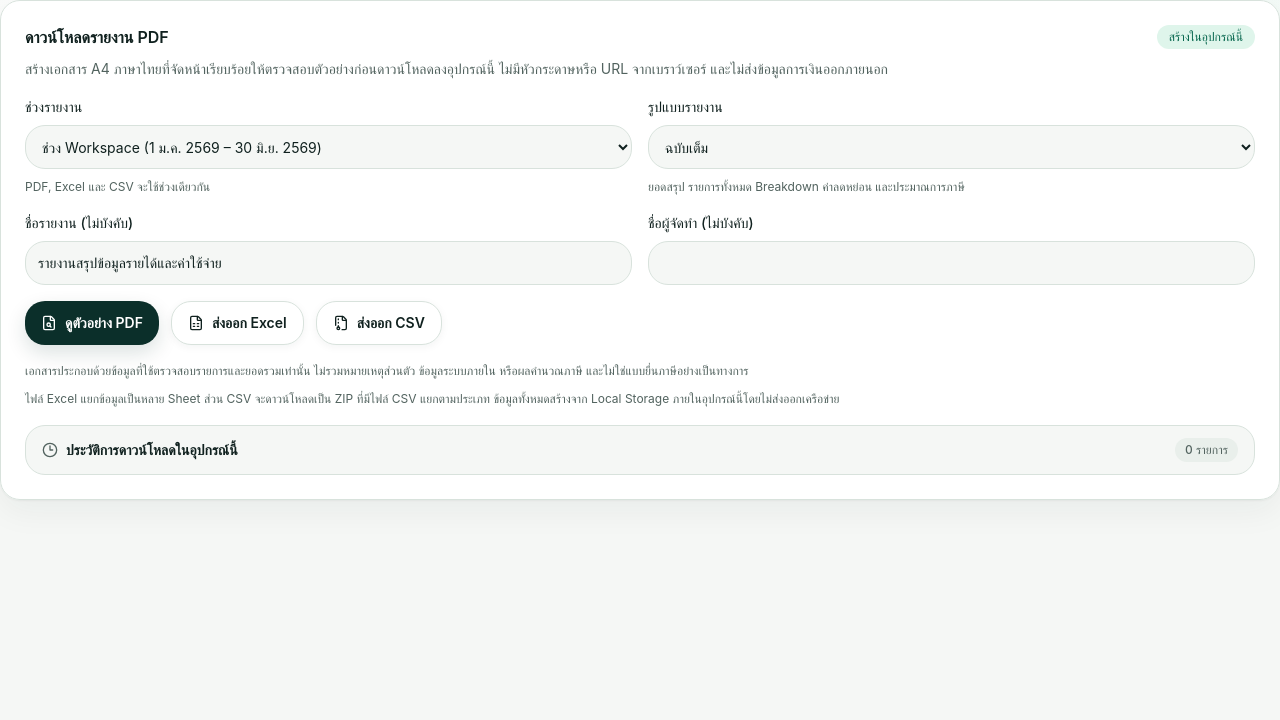
Test: PdfExportPanel › previews the local report before downloading without network, storage, or URL changes
Expected: the heading "ดาวน์โหลดรายงาน PDF" is shown, top-left (25, 27), bottom-right (169, 47)
Expected: the text "ไม่รวมหมายเหตุส่วนตัว ข้อมูลระบบภายใน หรือผลคำนวณภาษี" is shown, top-left (25, 363), bottom-right (749, 378)
Replace the text in the field labelled "ชื่อรายงาน (ไม่บังคับ)" with "รายงานสำหรับประชุม" at [328, 263], box top-left (25, 241), bottom-right (632, 285)
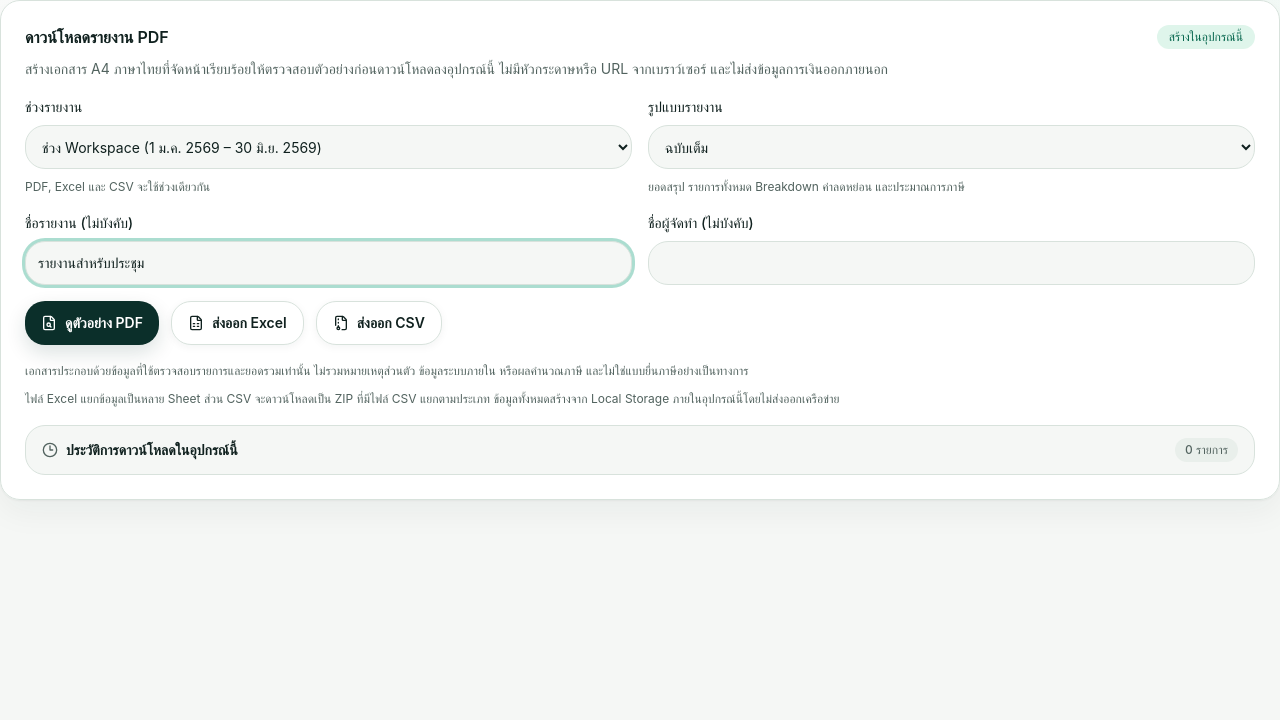
Type "ผู้ใช้ตัวอย่าง" into the field labelled "ชื่อผู้จัดทำ (ไม่บังคับ)" at [952, 263], box top-left (648, 241), bottom-right (1255, 285)
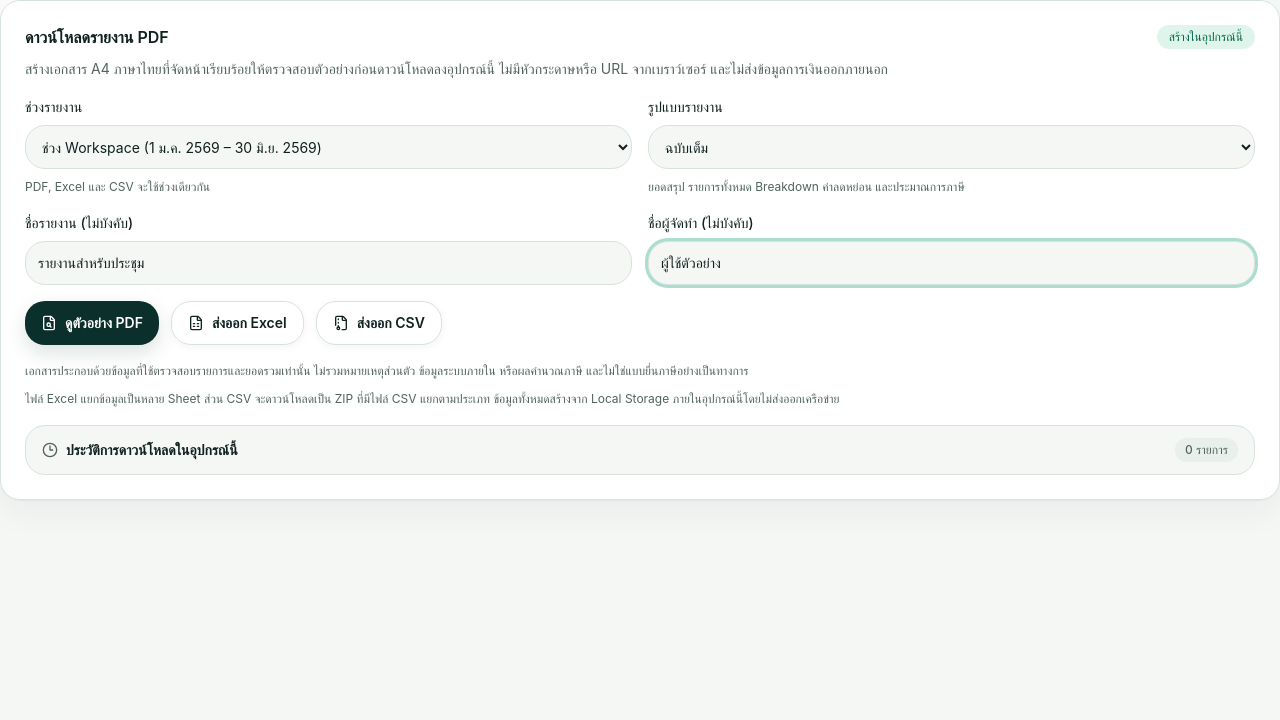
Click the button "ดูตัวอย่าง PDF" at [92, 323], box top-left (25, 301), bottom-right (159, 345)
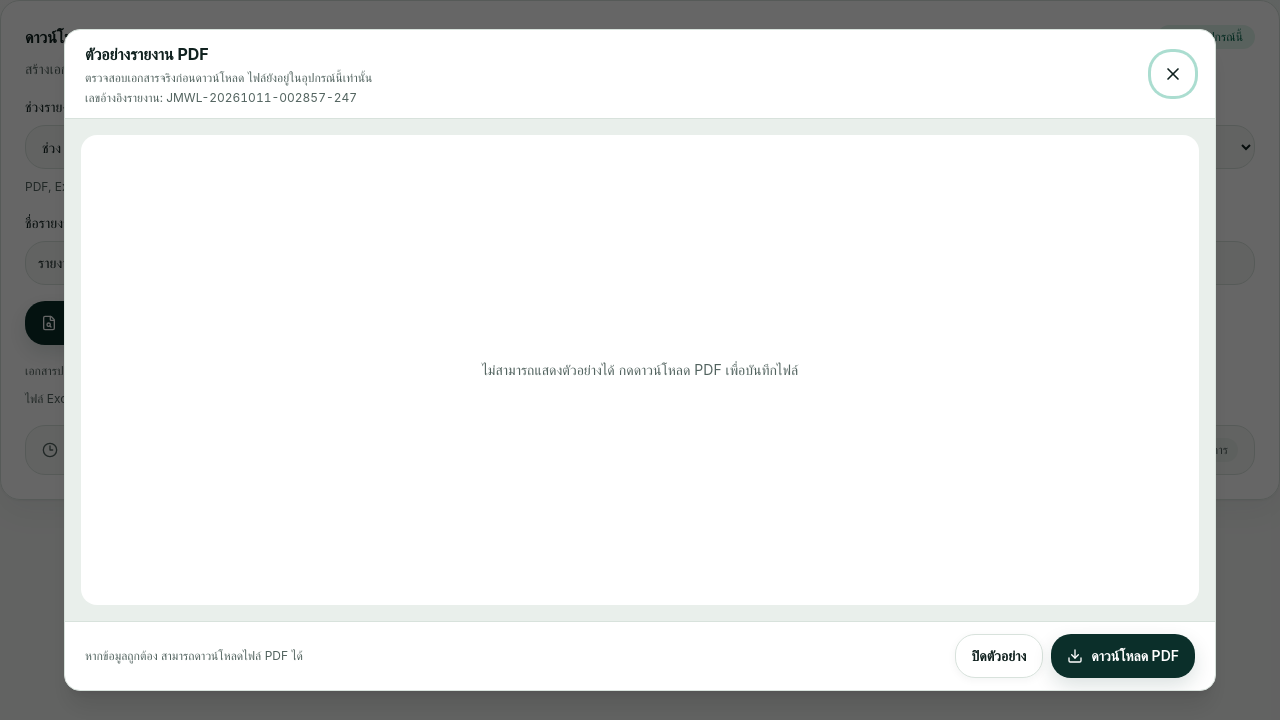
Result: the dialog "ตัวอย่างรายงาน PDF" is shown
Click the button "ดาวน์โหลด PDF" at [1123, 656], box top-left (1051, 634), bottom-right (1195, 678)
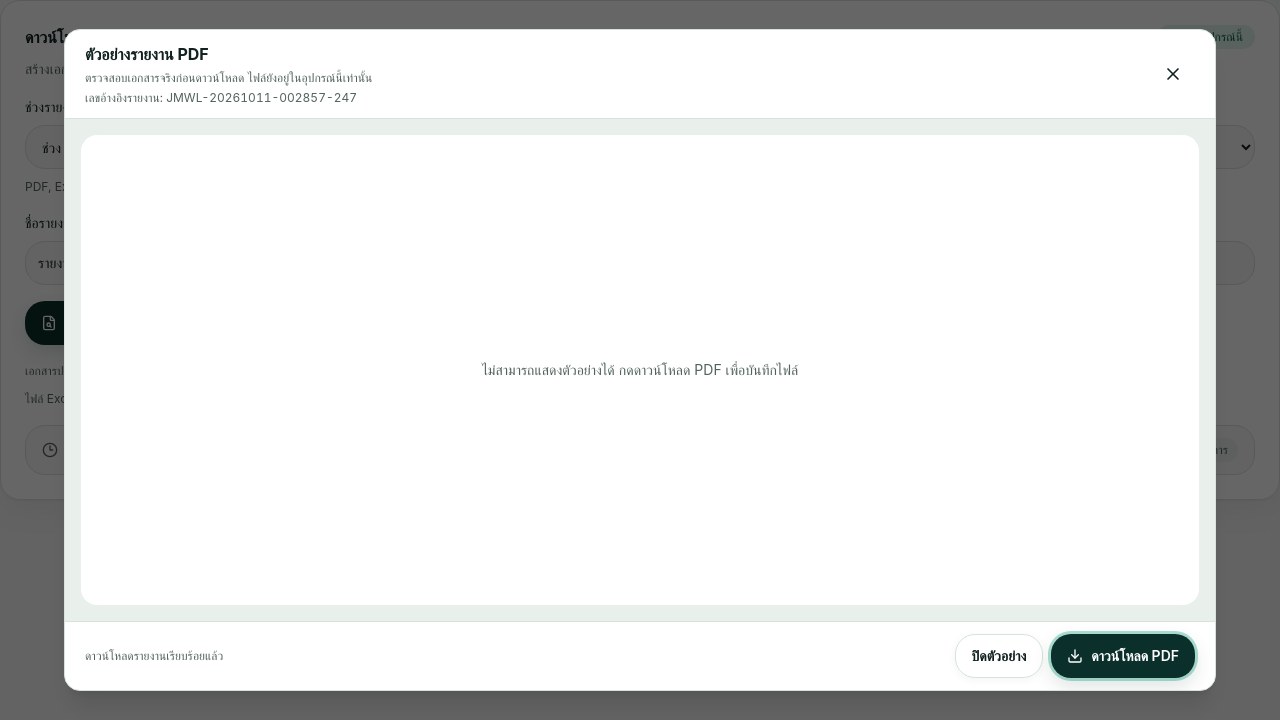
Click the button "ปิดตัวอย่าง" at [999, 656], box top-left (954, 634), bottom-right (1043, 678)
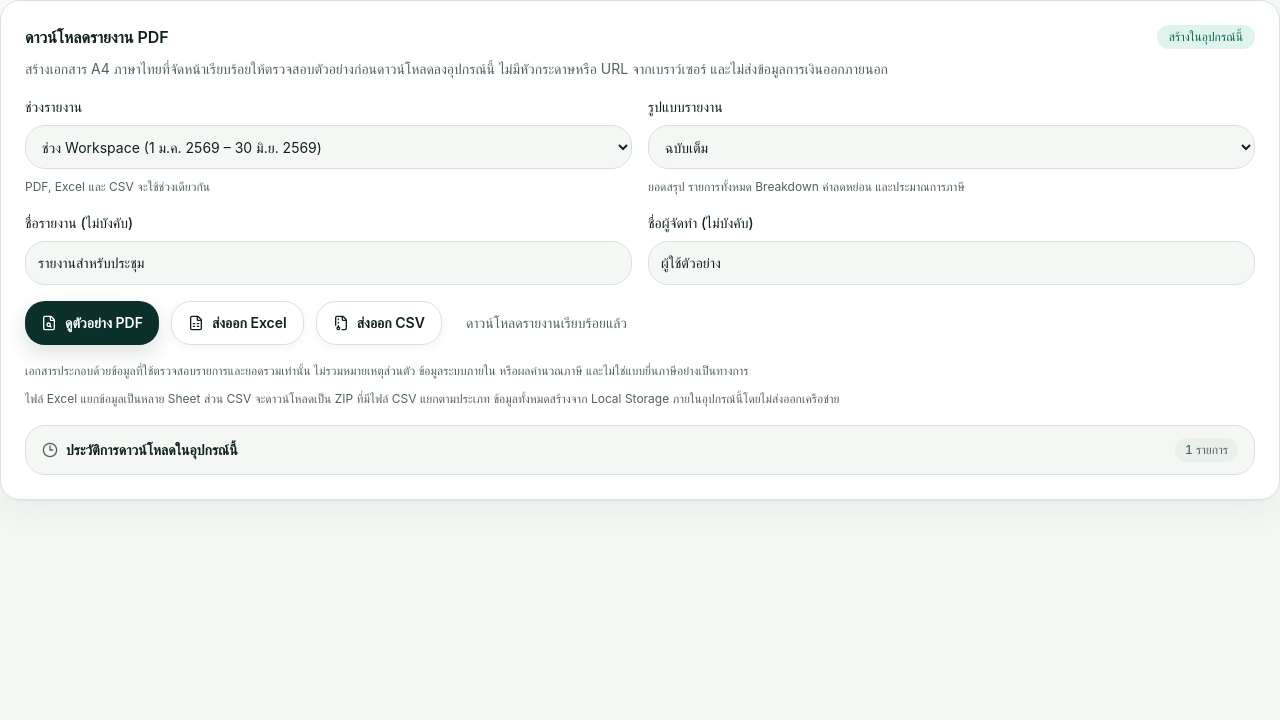
Result: the heading "ตัวอย่างรายงาน PDF" is gone
Click the text "ประวัติการดาวน์โหลดในอุปกรณ์นี้" at [140, 450], box top-left (42, 440), bottom-right (238, 460)
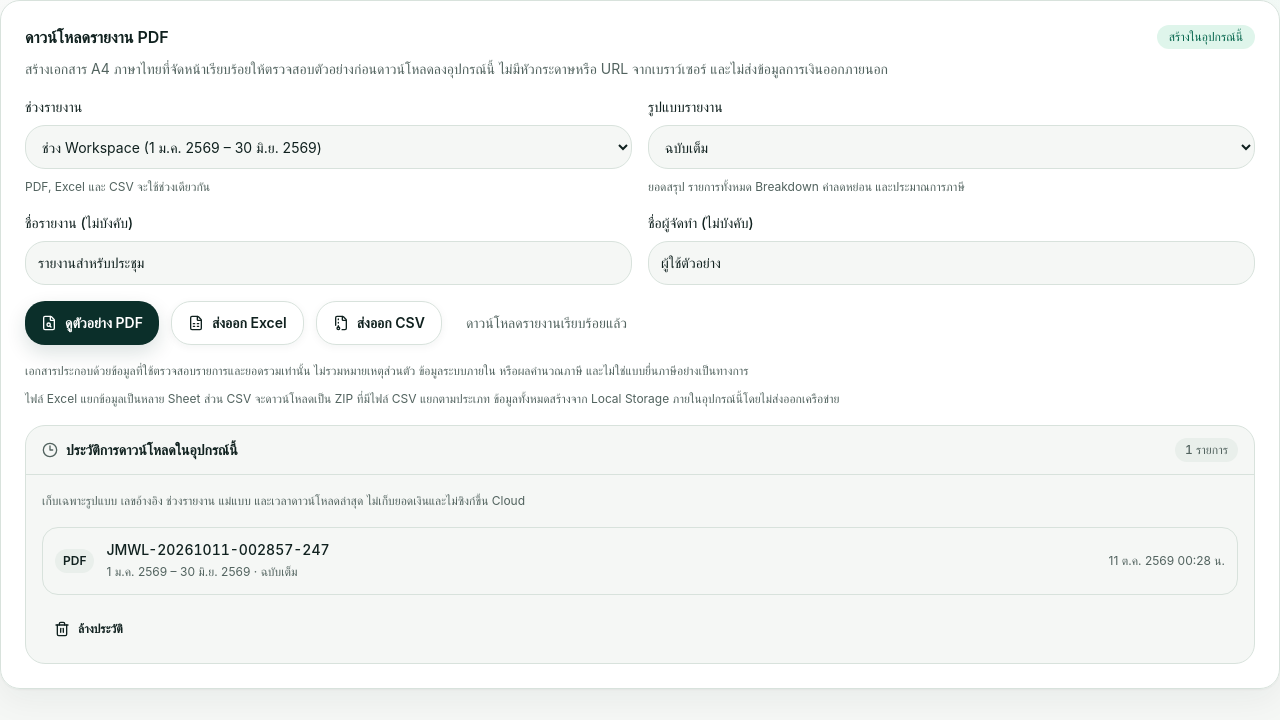
Result: the text "JMWL-20261011-002857-247" is shown at top-left (106, 541), bottom-right (330, 558)
